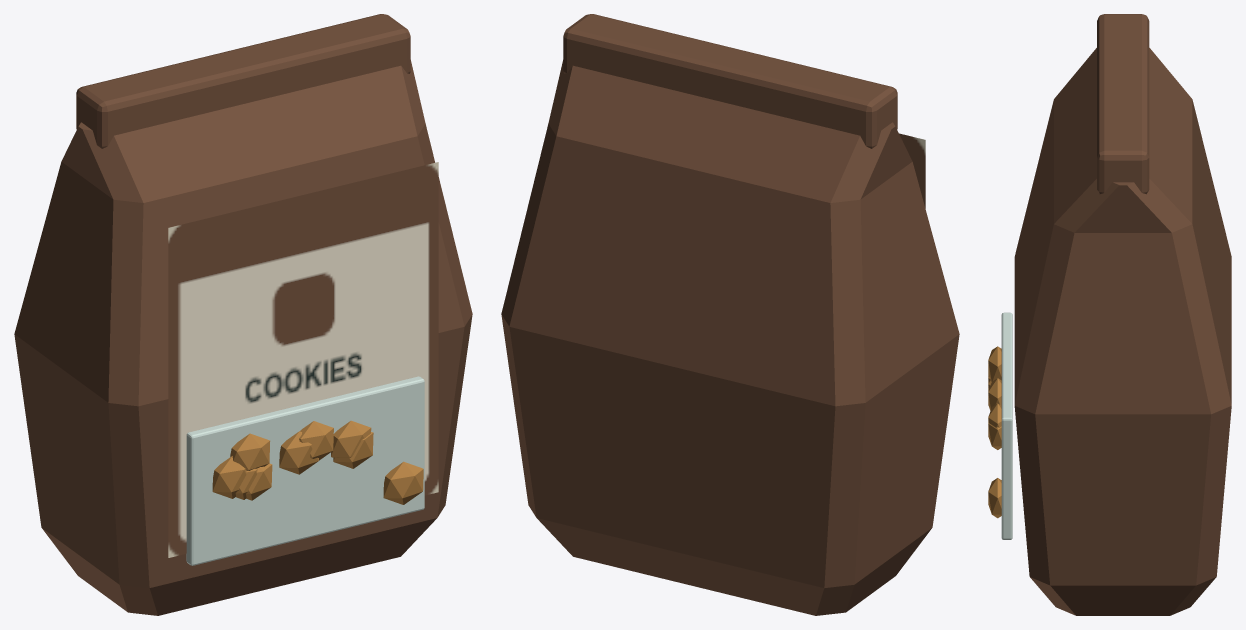
File: cookies.fbx
3 renders of one model, left to right at view 1: azimuth 30°, elevation 25°; view 2: azimuth 150°, elevation 25°; view 3: azimuth 270°, elevation 25°, orthographic. The views are drawn at different scales.
Visible parts, largest first — view 1: cookies; view 2: cookies; view 3: cookies.
Part boxes in pixels (x1,y1,x2,y2): cookies: (14,14,472,615); cookies: (501,14,959,615); cookies: (988,14,1231,615).
Bounding box in the file's own units: 21 × 27.67 × 13.01.
